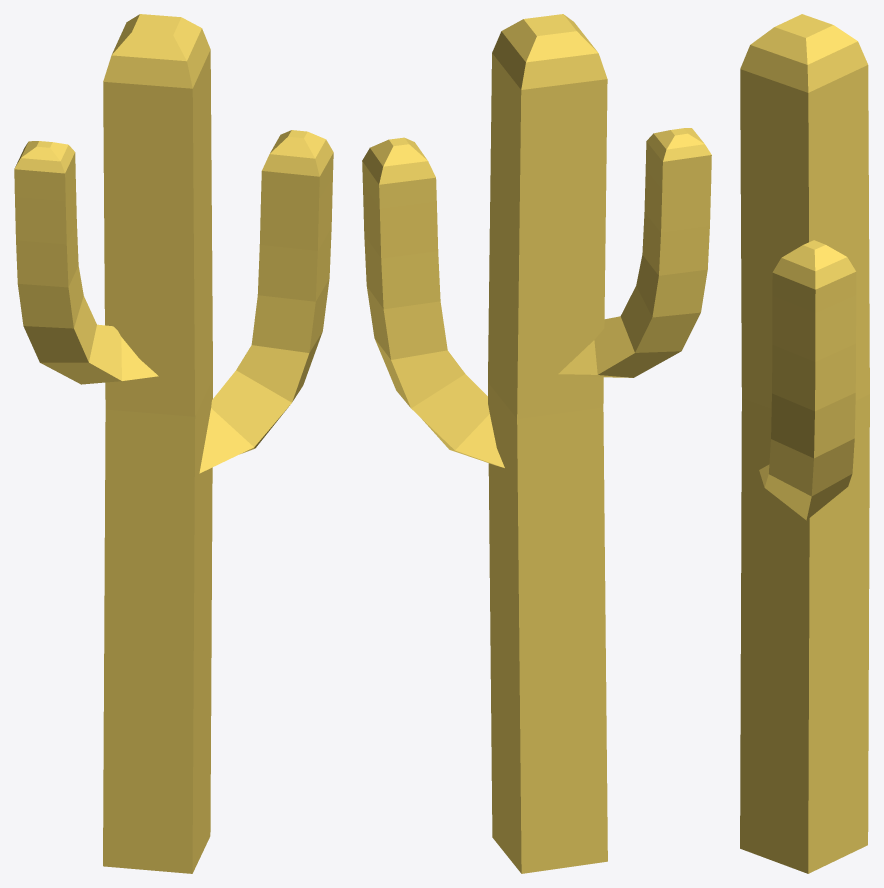
File: cactus.obj
3 views of the same model, side by side, from view 1: azimuth 30°, elevation 25°; view 2: azimuth 150°, elevation 25°; view 3: azimuth 270°, elevation 25° (orthographic).
Visible parts, largest first — view 1: NurbsPath.001_NurbsPath.008, NurbsPath.003_NurbsPath.007, NurbsPath.002_NurbsPath.006; view 2: NurbsPath.001_NurbsPath.008, NurbsPath.003_NurbsPath.007, NurbsPath.002_NurbsPath.006; view 3: NurbsPath.001_NurbsPath.008, NurbsPath.003_NurbsPath.007.
Part boxes in pixels (box(x1,y1,x2,y2)): NurbsPath.001_NurbsPath.008: box(103, 14, 212, 873); NurbsPath.003_NurbsPath.007: box(199, 130, 333, 473); NurbsPath.002_NurbsPath.006: box(14, 141, 158, 384); NurbsPath.001_NurbsPath.008: box(488, 14, 607, 873); NurbsPath.003_NurbsPath.007: box(362, 137, 504, 467); NurbsPath.002_NurbsPath.006: box(558, 128, 711, 377); NurbsPath.001_NurbsPath.008: box(740, 14, 869, 873); NurbsPath.003_NurbsPath.007: box(759, 240, 856, 520).
Size of the model in its own units: 1.33 by 3.13 by 0.4495.
